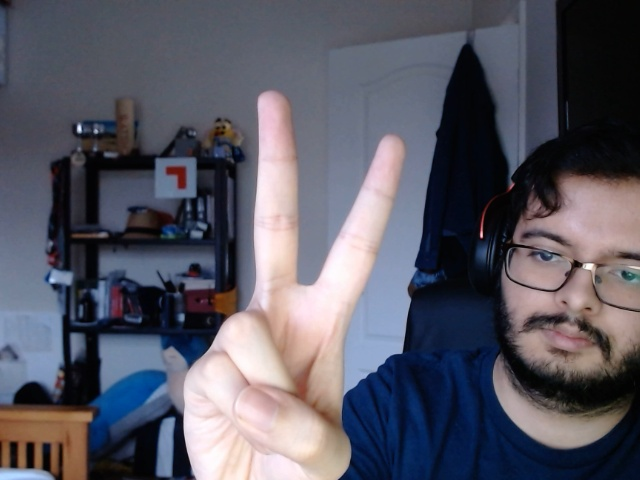Peace: (139, 81, 448, 480)
